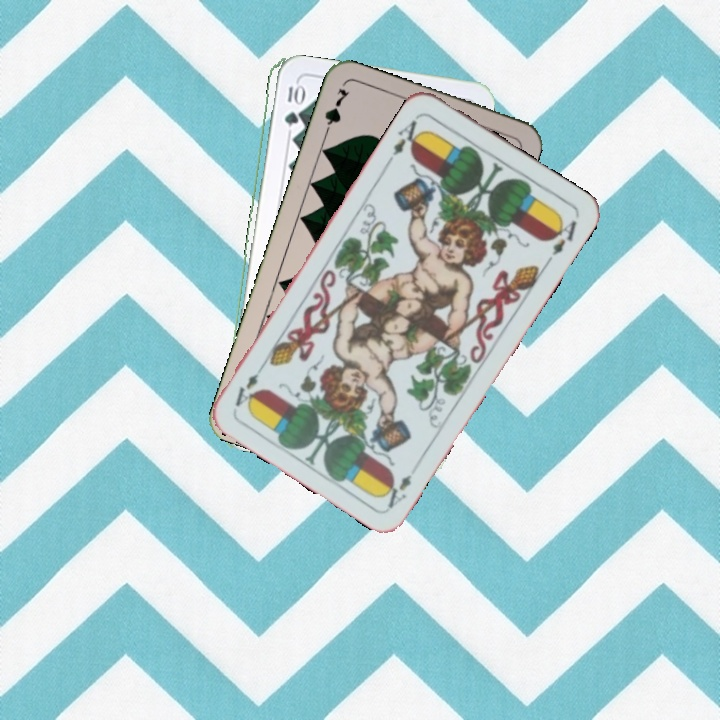EA: (384, 112, 426, 165), (379, 470, 416, 511)
G10: (280, 79, 302, 129)
G7: (319, 84, 353, 141)
